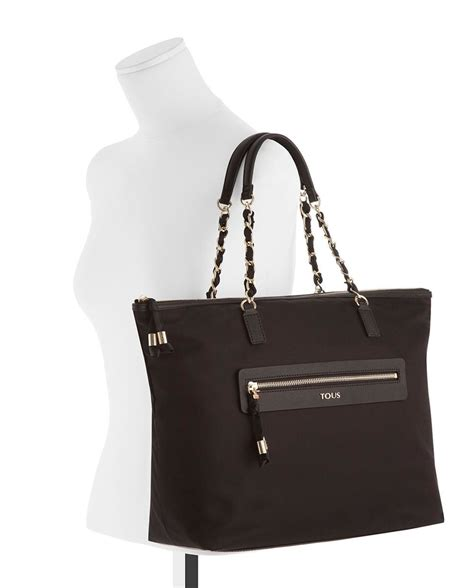nylon: (130, 285, 449, 555)
